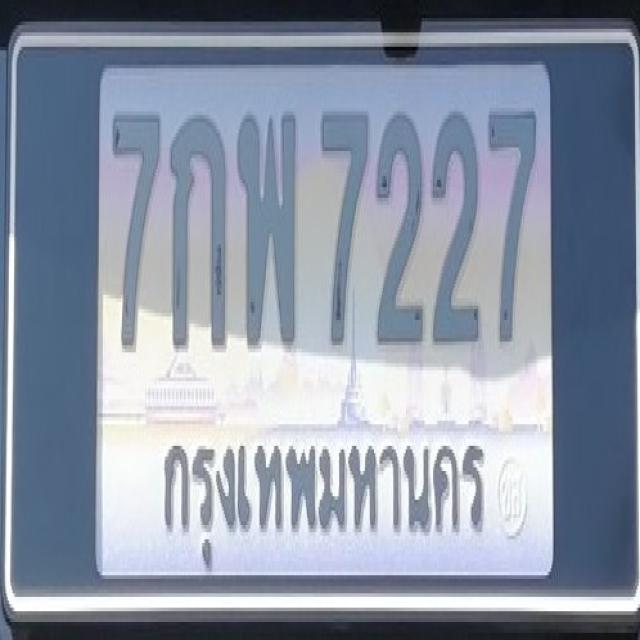license_plate: (4, 19, 640, 626)
